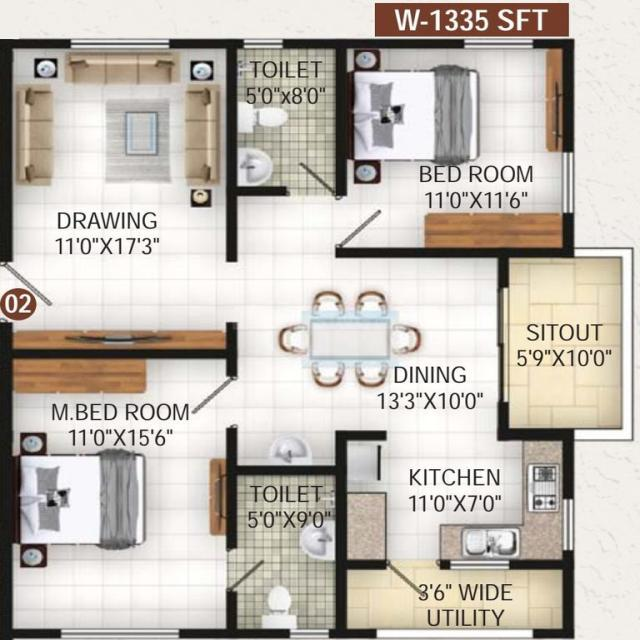Balcony-Sitout: (510, 258, 622, 428)
Bedroom: (347, 47, 563, 247)
Bedroom with Toilet: (9, 356, 341, 633)
Dining: (278, 289, 424, 391)
Enterance-Foyer: (1, 258, 68, 325)
Kitchen: (347, 440, 566, 561)
Living: (12, 48, 227, 347)
Toilet: (236, 475, 338, 630), (237, 49, 336, 189)
Utility: (346, 569, 566, 631)
